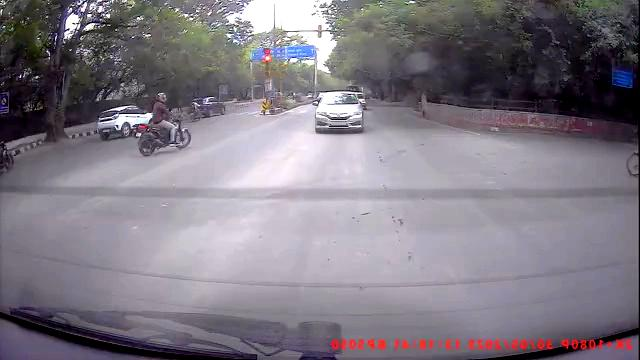motorcycle_with_helmet: (136, 91, 190, 157)
